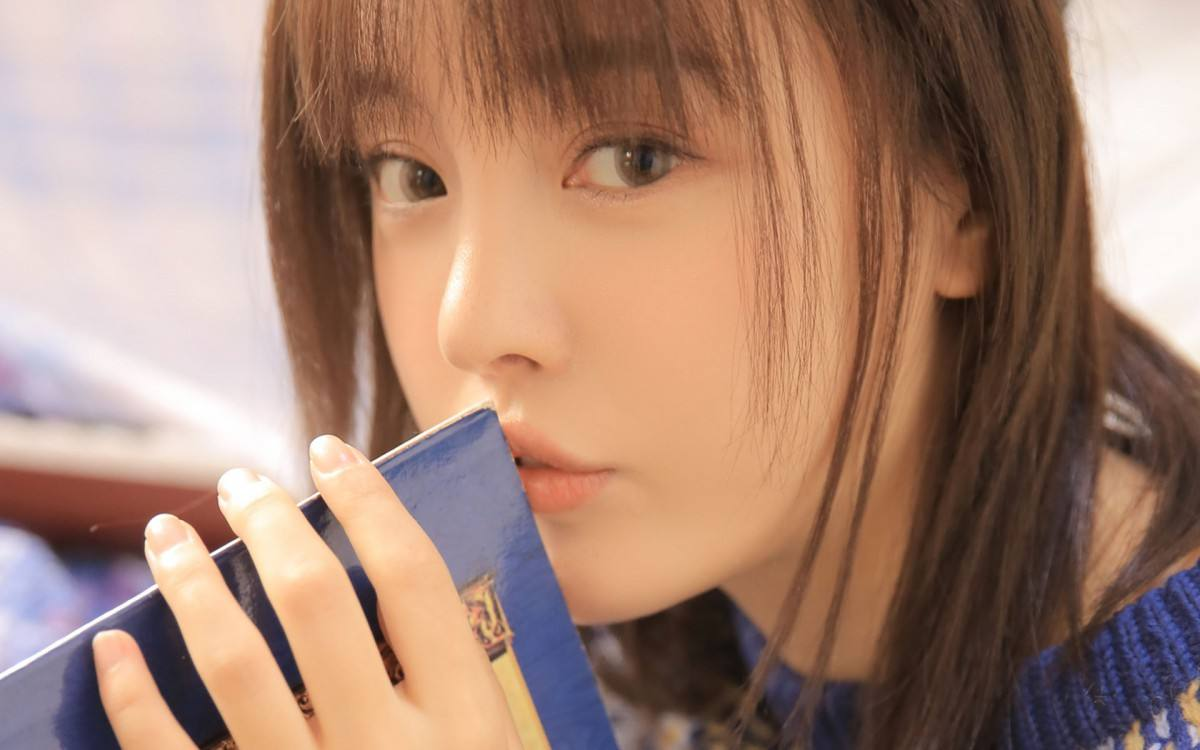person: (163, 11, 1134, 630)
